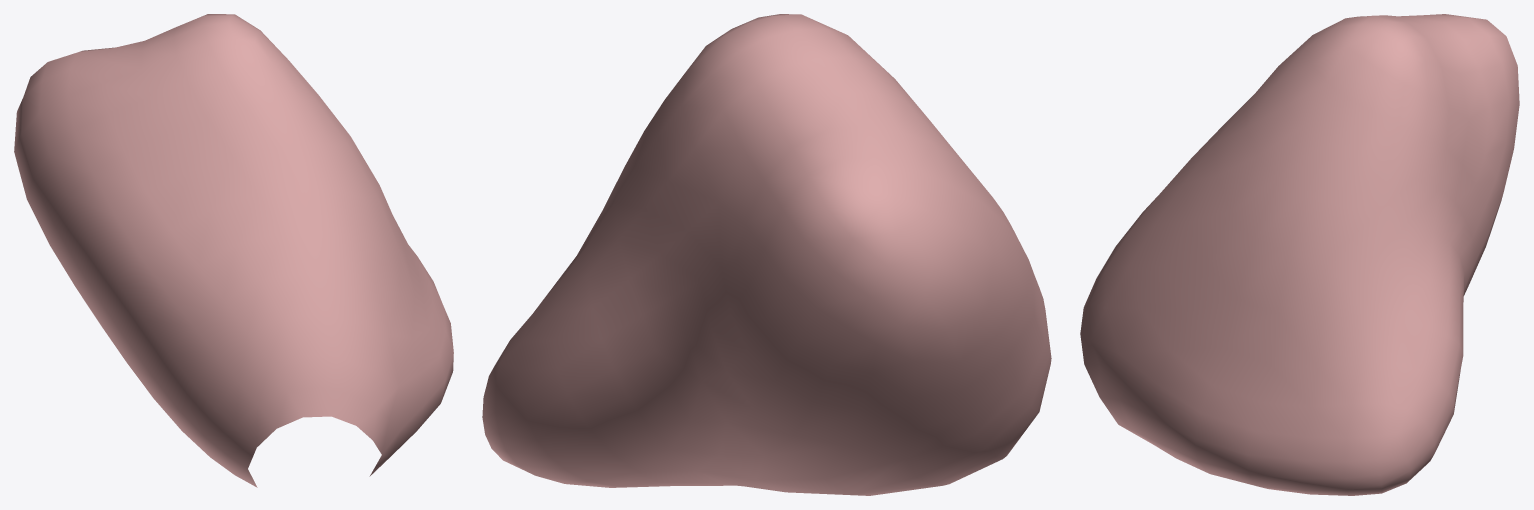
Rendered from frau2-583.glb.
3 renders of one model, left to right at view 1: azimuth 30°, elevation 25°; view 2: azimuth 150°, elevation 25°; view 3: azimuth 270°, elevation 25°, orthographic. The views are drawn at different scales.
Parts seen in each view (by area): view 1: VH_F_renal_pyramid_L_c; view 2: VH_F_renal_pyramid_L_c; view 3: VH_F_renal_pyramid_L_c.
Part boxes in pixels (left/top/right/bottom): VH_F_renal_pyramid_L_c: left=14, top=14, right=453, bottom=487; VH_F_renal_pyramid_L_c: left=482, top=14, right=1051, bottom=495; VH_F_renal_pyramid_L_c: left=1080, top=14, right=1519, bottom=495.
Bounding box in the file's own units: 0.0168 × 0.017 × 0.0165.
